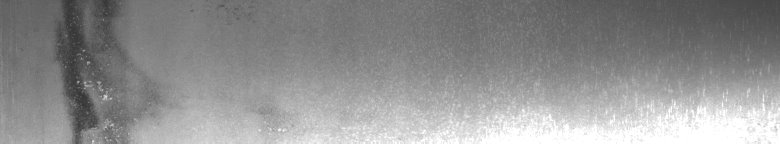hc: (52, 4, 128, 136)
